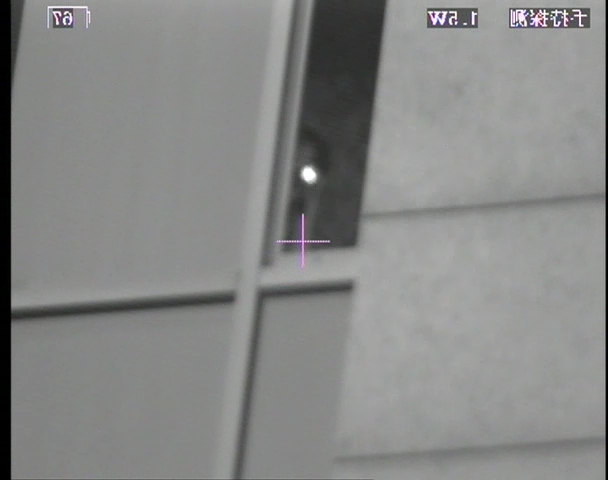my: (302, 168, 318, 185)
